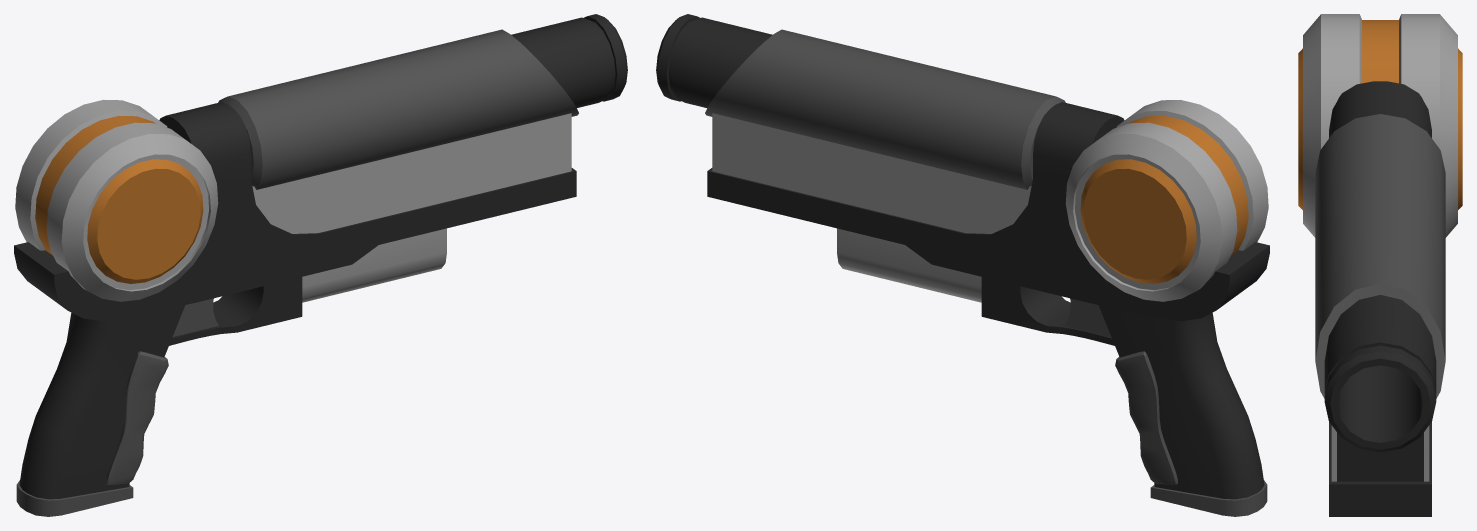
Rendered from pistol.glb.
The picture shows the model from 3 angles, left to right: view 1: azimuth 30°, elevation 25°; view 2: azimuth 150°, elevation 25°; view 3: azimuth 270°, elevation 25°; orthographic projection. The views are drawn at different scales.
Visible parts, largest first — view 1: Pistol_1; view 2: Pistol_1; view 3: Pistol_1.
Boxes of the visible parts, x1,y1,x2,y2 form: Pistol_1: [14, 14, 627, 516]; Pistol_1: [656, 14, 1269, 516]; Pistol_1: [1298, 14, 1462, 516].
Bounding box in the file's own units: 0.9344 × 0.5605 × 0.1782.
